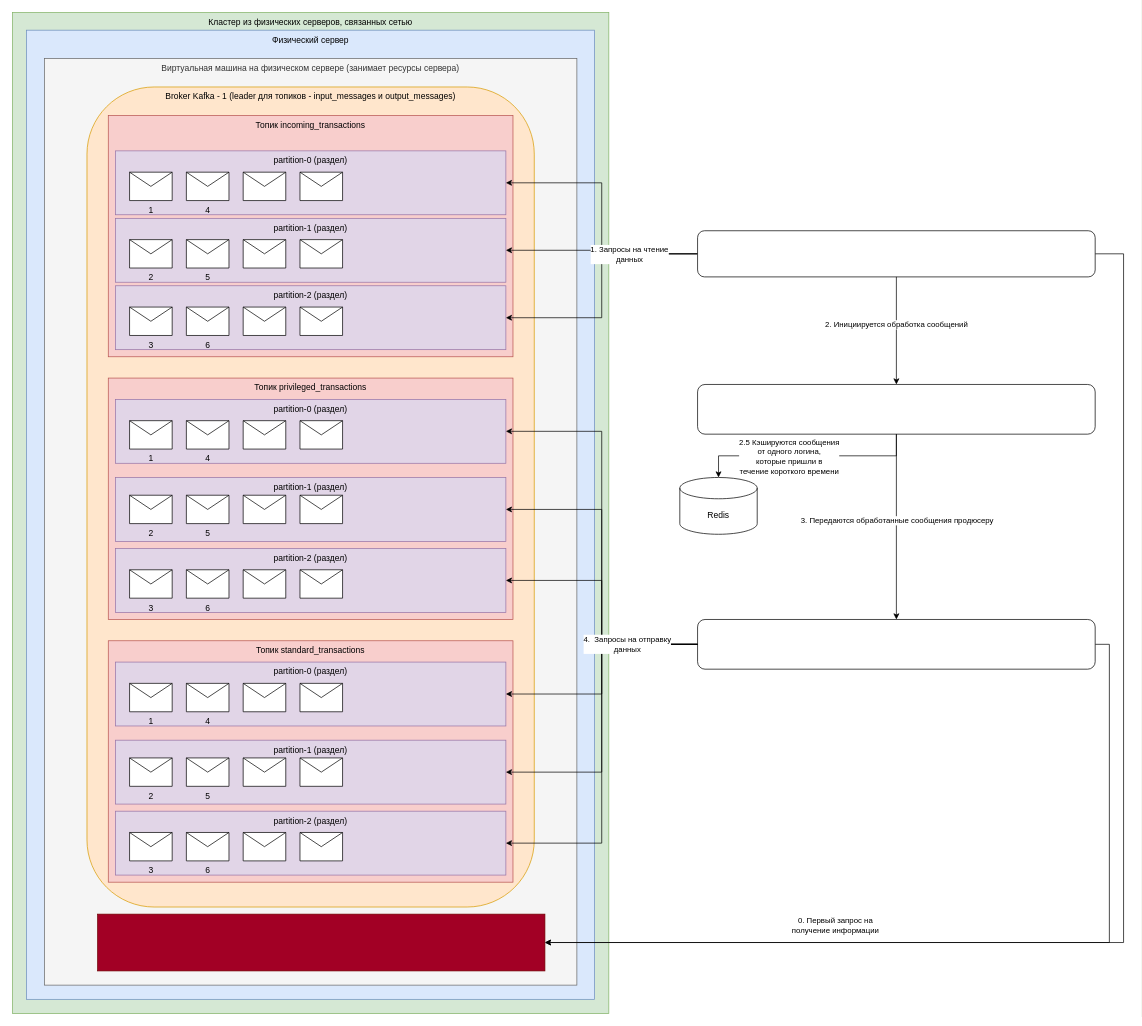
Image size: 1142x1026. Some labels were removed from this diagram. Here are the shapes that lost their labels. From the top down, the centre of each, then its label:
At point 896,253: "Consumer (Subscriber) Читаются сообщения в формате JSON".
At point 896,409: "Обработка сообщений: - фильтрация - преобразование - дедубликация".
At point 896,644: "Producer (Publisher) Отправка сообщений в формате JSON".
At point 321,942: "Zookeeper - хранит метаинформацию и координирует действия брокеров и клиентов".
